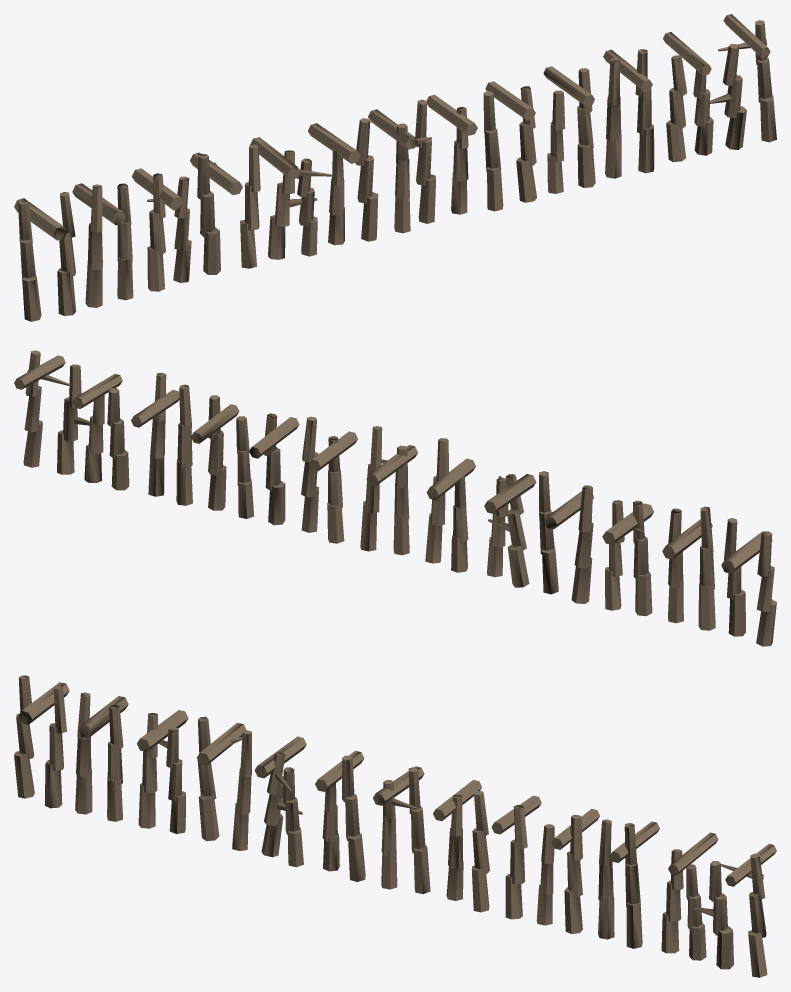
The picture shows the model from 3 angles, top to bottom: view 1: azimuth 30°, elevation 25°; view 2: azimuth 150°, elevation 25°; view 3: azimuth 330°, elevation 25°; orthographic projection.
Parts seen in each view (by area): view 1: low; view 2: low; view 3: low.
Boxes of the visible parts, box(x1,y1,x2,y2) form: low: box(14, 14, 776, 321); low: box(14, 350, 776, 646); low: box(14, 675, 776, 977).
Size of the model in its own units: 3.93 by 0.6075 by 0.4052.
